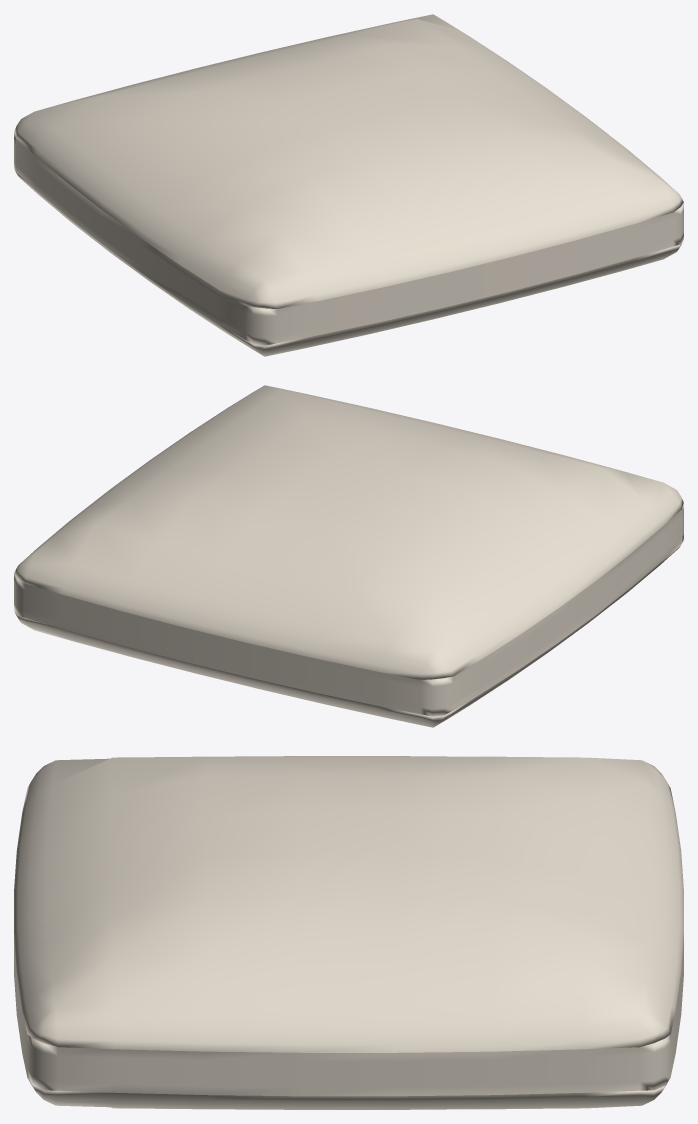
File: cushion__307.glb
3 renders of one model, top to bottom at view 1: azimuth 30°, elevation 25°; view 2: azimuth 150°, elevation 25°; view 3: azimuth 270°, elevation 25°, orthographic. The views are drawn at different scales.
Visible parts, largest first — view 1: cushion__307; view 2: cushion__307; view 3: cushion__307.
Boxes of the visible parts, x1,y1,x2,y2 form: cushion__307: (14,14,683,356); cushion__307: (14,385,683,727); cushion__307: (14,756,683,1109).
Size of the model in its own units: 0.45 by 0.15 by 0.45.
